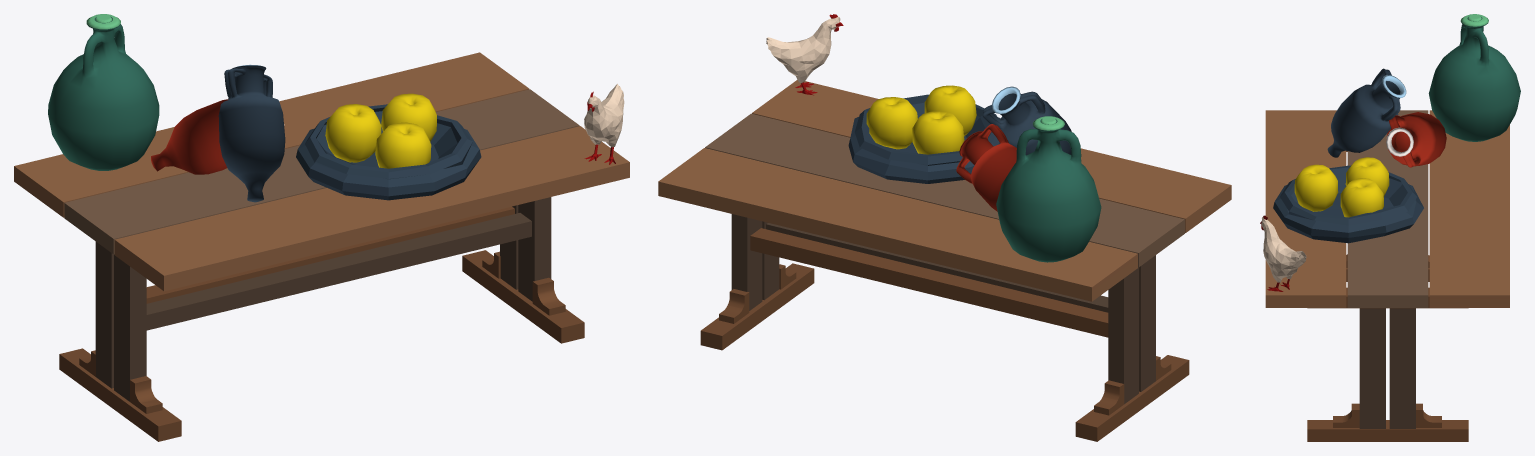
The model's file is SM_O_Table.fbx.
The picture shows the model from 3 angles, left to right: view 1: azimuth 30°, elevation 25°; view 2: azimuth 150°, elevation 25°; view 3: azimuth 270°, elevation 25°; orthographic projection. The views are drawn at different scales.
Parts seen in each view (by area): view 1: SM_Hen7; view 2: SM_Hen7; view 3: SM_Hen7.
Part boxes in pixels (x1,y1,x2,y2): SM_Hen7: [14, 14, 629, 441]; SM_Hen7: [658, 14, 1231, 441]; SM_Hen7: [1260, 14, 1520, 441].
Bounding box in the file's own units: 2.21 × 1.49 × 1.28.
